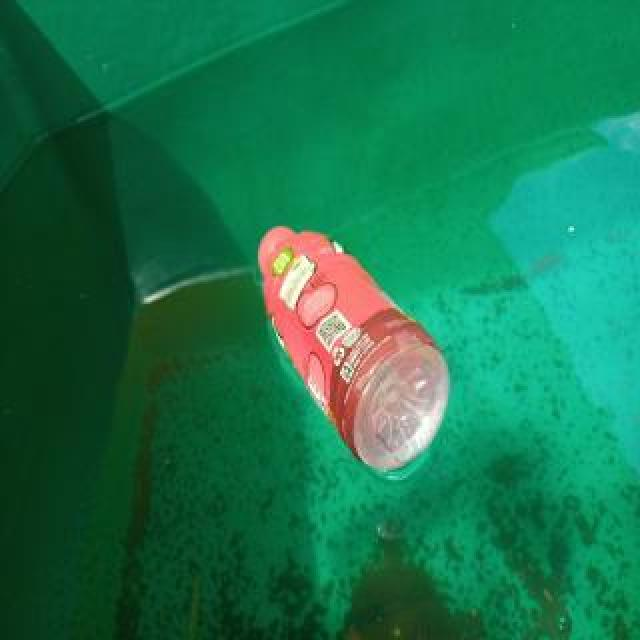bottle: (256, 222, 450, 472)
